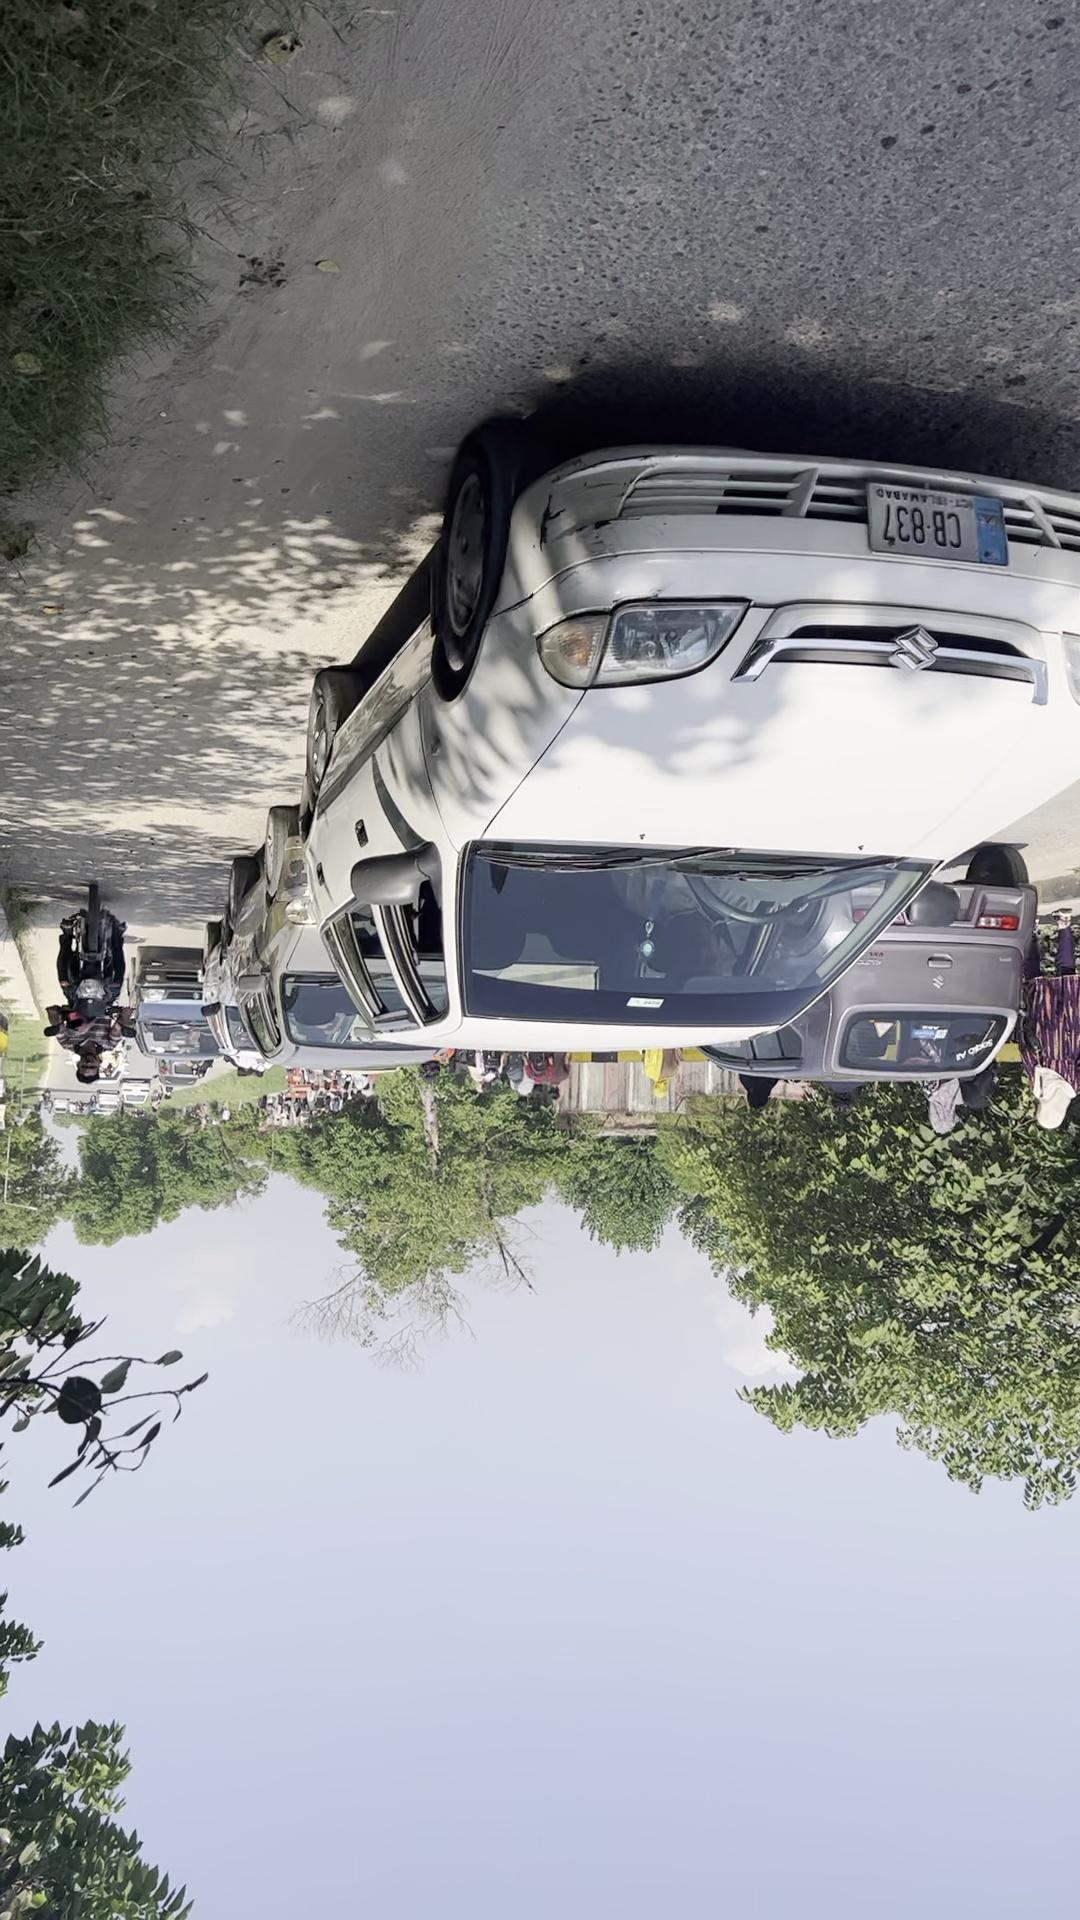windshield: (131, 890, 617, 1095)
